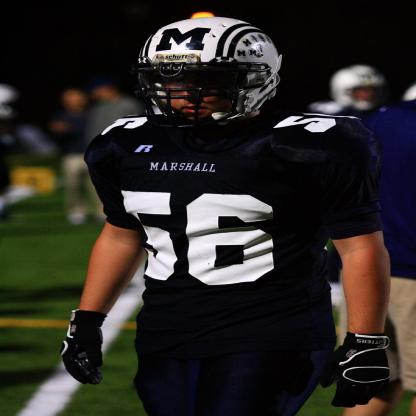Helmet: (136, 15, 284, 127)
